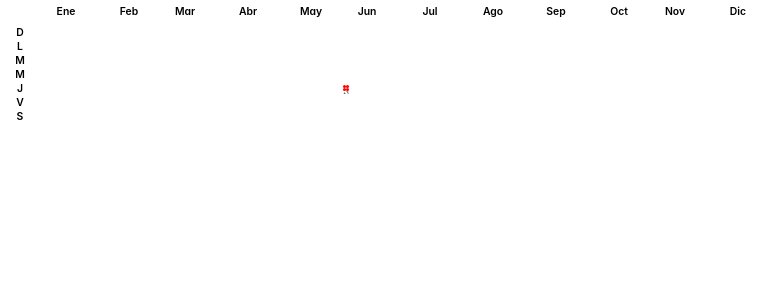
Test: YearStrip › tooltip de día al hover (igual que en meses) › limita el tooltip a 5 títulos y muestra +N más
The image size is (763, 287).
Hover over the element showing "+3" at (346, 90), box [343,85,349,96]
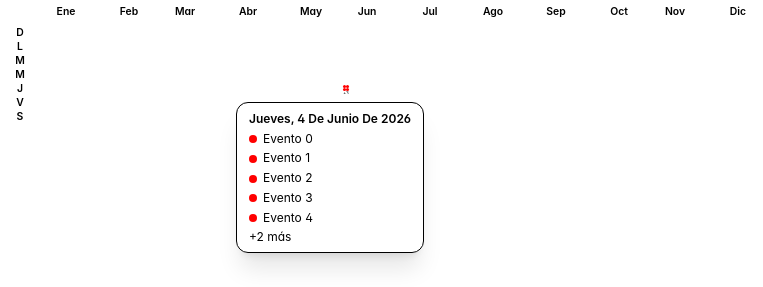
Expected: the tooltip with test id "day-tooltip" is shown, [236,102,424,253]
Expected: the number of list items with test id "day-tooltip-item" is 5, [249,131,313,146]; [249,150,310,165]; [249,170,312,185]; [249,190,313,205]; [249,210,313,225]
Expected: the tooltip with test id "day-tooltip" shows "+2 más", [249,229,291,244]
